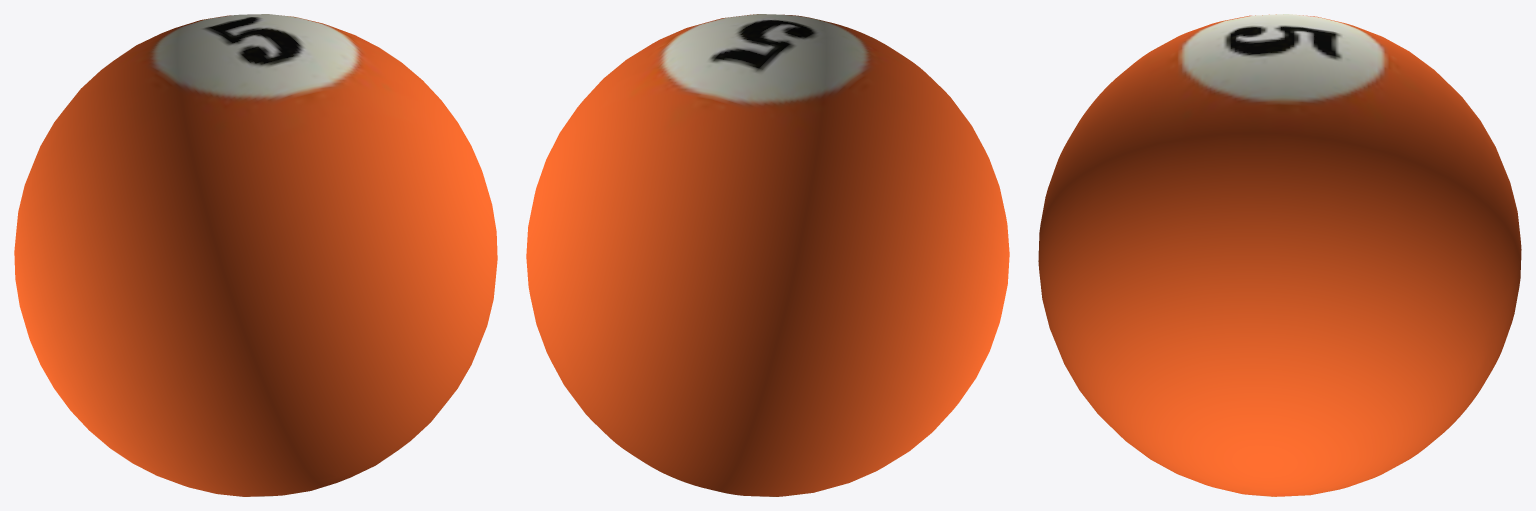
The model's file is billardBall5.glb.
3 renders of one model, left to right at view 1: azimuth 30°, elevation 25°; view 2: azimuth 150°, elevation 25°; view 3: azimuth 270°, elevation 25°, orthographic.
Parts seen in each view (by area): view 1: obj230; view 2: obj230; view 3: obj230.
Boxes of the visible parts, left/top/right/bottom form: obj230: left=14, top=14, right=497, bottom=496; obj230: left=526, top=14, right=1009, bottom=496; obj230: left=1038, top=14, right=1521, bottom=496.
Size of the model in its own units: 0.3908 by 0.3906 by 0.3905.
Materials: 1 (1 with a texture image).
